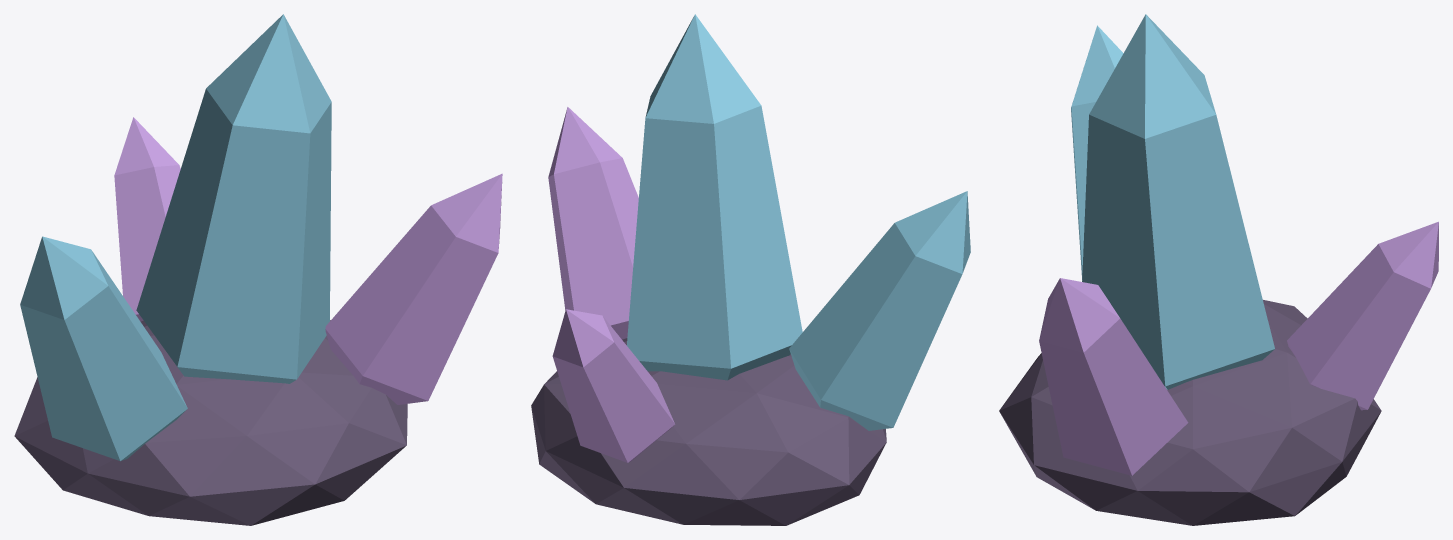
Rendered from crystal-cluster.glb.
3 views of the same model, side by side, from view 1: azimuth 30°, elevation 25°; view 2: azimuth 150°, elevation 25°; view 3: azimuth 270°, elevation 25° (orthographic). The views are drawn at different scales.
Visible parts, largest first — view 1: cave-crystal-cluster; view 2: cave-crystal-cluster; view 3: cave-crystal-cluster.
Boxes of the visible parts, bbox=[...] form: cave-crystal-cluster: bbox=[14, 14, 502, 525]; cave-crystal-cluster: bbox=[531, 14, 970, 525]; cave-crystal-cluster: bbox=[999, 14, 1438, 525].
Bounding box in the file's own units: 0.6252 × 0.5846 × 0.5075.
